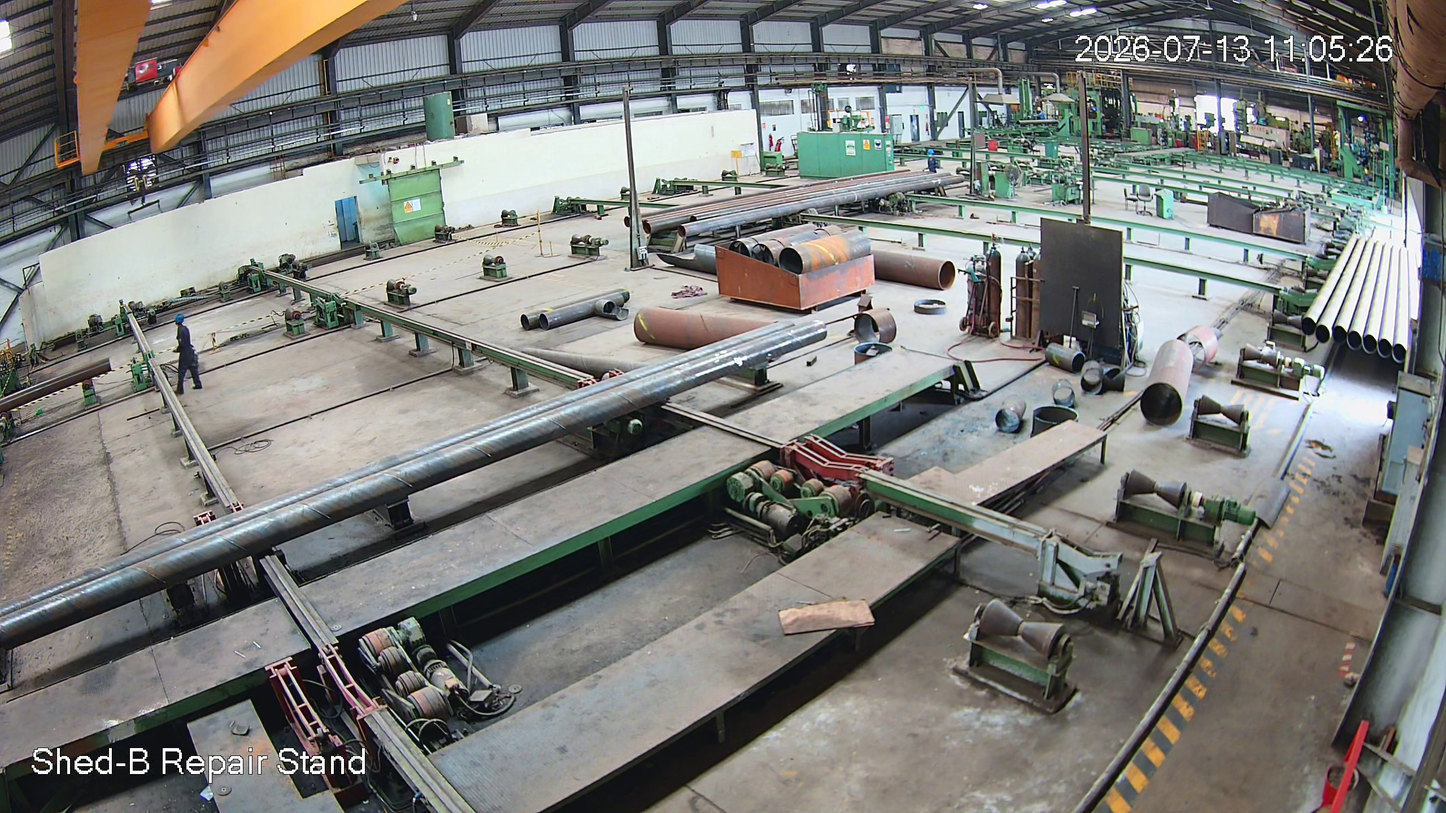Person: (171, 315, 203, 391)
